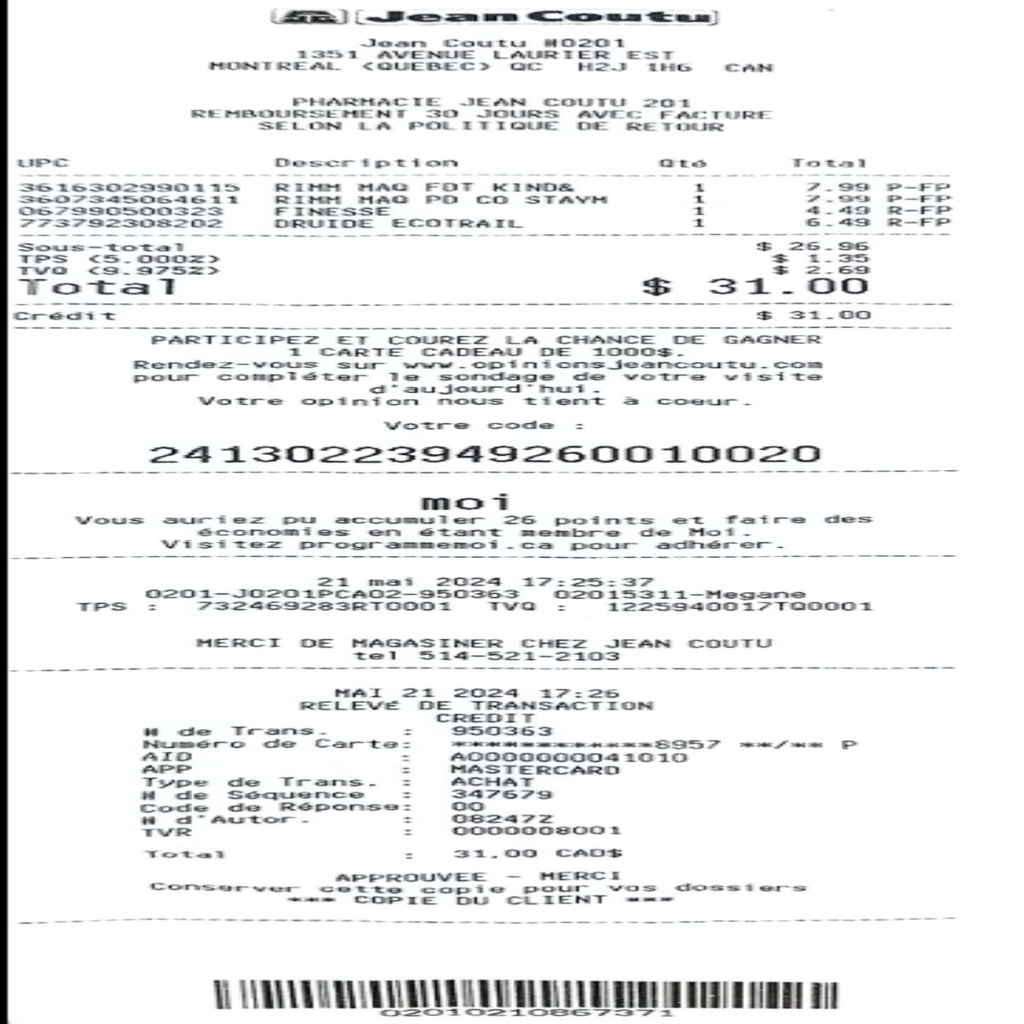recipt: (10, 0, 1022, 1020)
